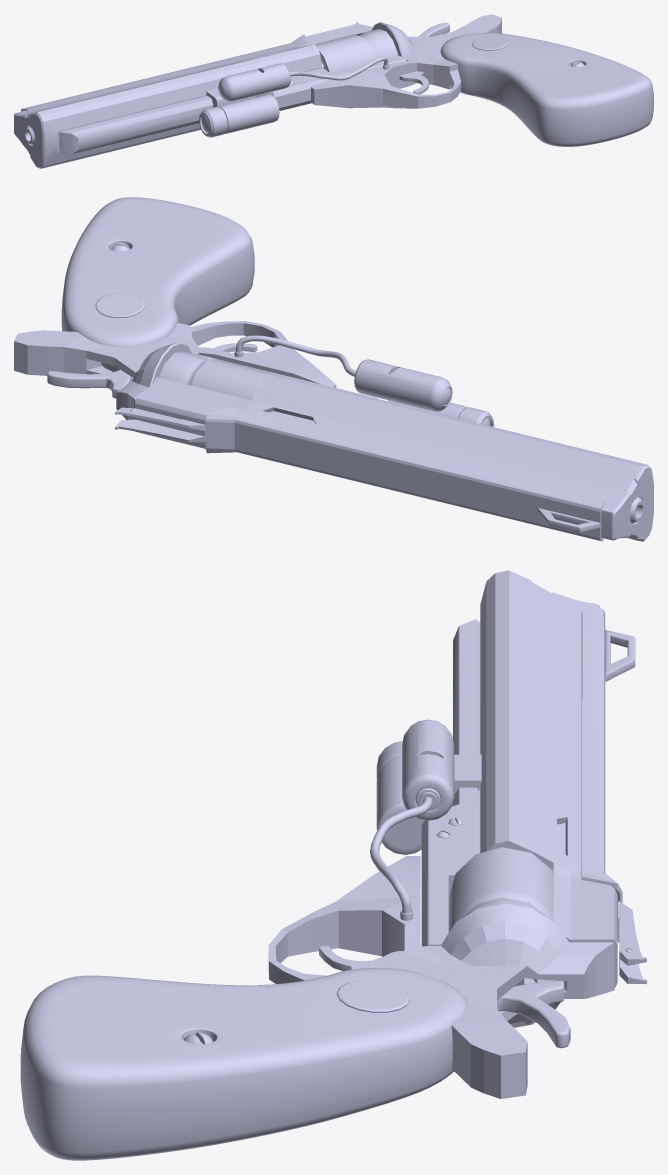
3 renders of one model, top to bottom at view 1: azimuth 30°, elevation 25°; view 2: azimuth 150°, elevation 25°; view 3: azimuth 270°, elevation 25°, orthographic. The views are drawn at different scales.
Parts seen in each view (by area): view 1: HC_Handle, Barrel_Main, Trigger2, GunCylinder, LightPart, LightPart3, Barrel3, LightPart4, GoldBit, Trigger1, LightPart2, HammerGun; view 2: Barrel_Main, HC_Handle, Barrel3, Trigger2, LightPart3, GunCylinder, Aim, HammerGun, GoldBit, LightPart4, Aim2, LightPart; view 3: HC_Handle, Barrel_Main, Trigger2, Barrel3, GunCylinder, LightPart3, LightPart, HammerGun, GoldBit, LightPart4, Aim, Aim2 (+1 smaller).
Part boxes in pixels (x1,y1,x2,y2): HC_Handle: [440, 33, 653, 146]; Barrel_Main: [14, 23, 406, 168]; Trigger2: [311, 14, 501, 108]; GunCylinder: [315, 29, 398, 72]; LightPart: [199, 94, 279, 137]; LightPart3: [218, 63, 290, 101]; Barrel3: [21, 34, 306, 111]; LightPart4: [289, 56, 389, 80]; GoldBit: [472, 36, 508, 50]; Trigger1: [399, 71, 428, 94]; LightPart2: [206, 88, 243, 107]; HammerGun: [419, 23, 449, 36]; Barrel_Main: [135, 354, 653, 541]; HC_Handle: [61, 197, 254, 346]; Barrel3: [205, 407, 603, 541]; Trigger2: [14, 321, 336, 419]; LightPart3: [354, 359, 452, 411]; GunCylinder: [158, 351, 270, 399]; Aim: [115, 407, 205, 442]; HammerGun: [47, 362, 131, 398]; GoldBit: [95, 292, 144, 318]; LightPart4: [234, 335, 355, 376]; Aim2: [536, 507, 600, 532]; LightPart: [388, 400, 494, 426]; HC_Handle: [20, 968, 467, 1160]; Barrel_Main: [421, 570, 617, 987]; Trigger2: [268, 856, 614, 1098]; Barrel3: [581, 607, 622, 940]; GunCylinder: [448, 847, 553, 932]; LightPart3: [402, 719, 454, 820]; LightPart: [376, 741, 424, 854]; HammerGun: [497, 979, 570, 1048]; GoldBit: [336, 980, 409, 1012]; LightPart4: [370, 797, 432, 920]; Aim: [618, 901, 647, 984]; Aim2: [605, 630, 635, 681].
Size of the model in its own units: 78.45 by 9.99 by 41.83.
